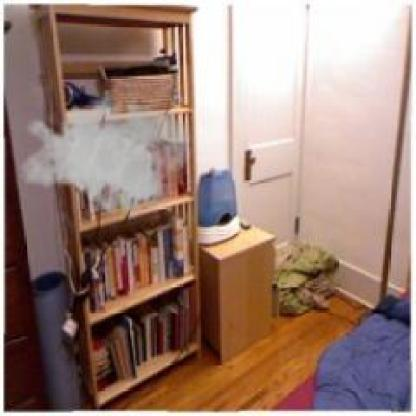Smoke: (19, 82, 192, 219)
